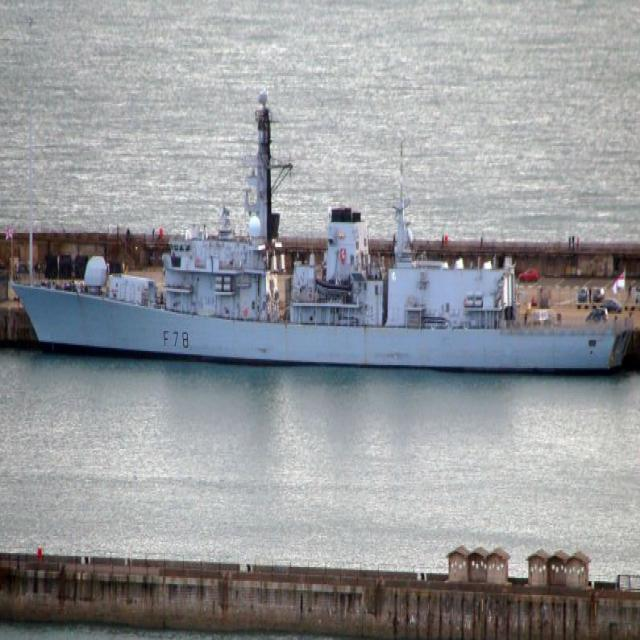Fragata: (14, 91, 633, 385)
